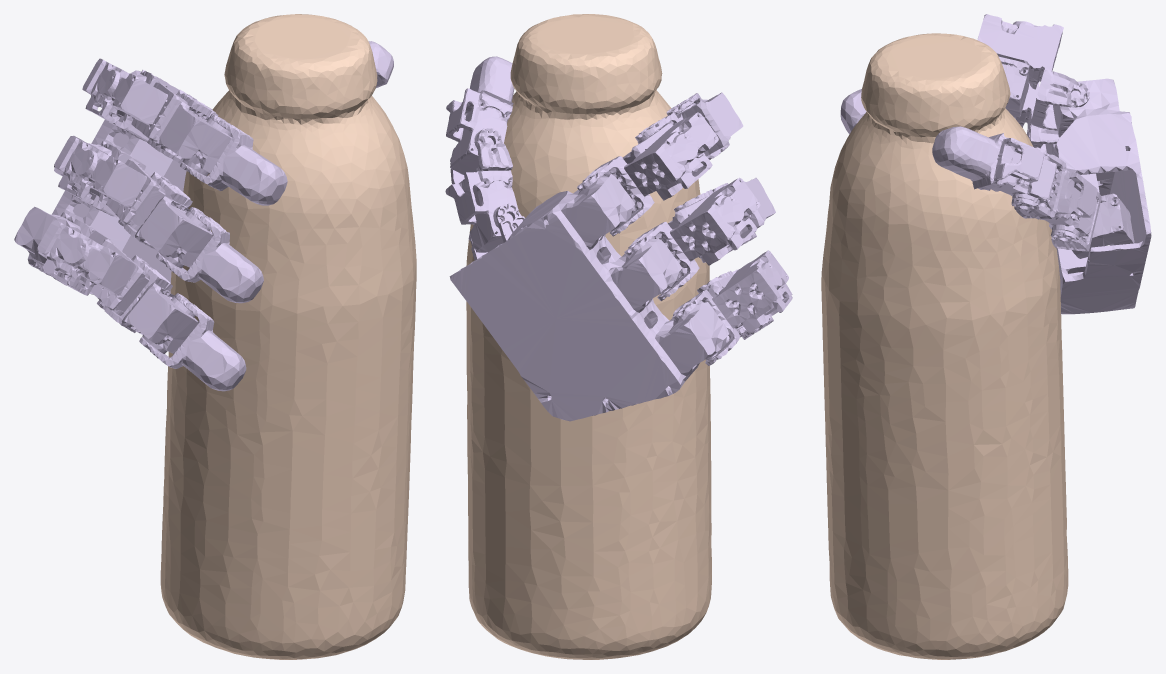
The picture shows the model from 3 angles, left to right: view 1: azimuth 30°, elevation 25°; view 2: azimuth 150°, elevation 25°; view 3: azimuth 270°, elevation 25°; orthographic projection. The views are drawn at different scales.
Visible parts, largest first — view 1: world, LEAP_hand; view 2: world, LEAP_hand; view 3: world, LEAP_hand.
Part boxes in pixels (x1,y1,x2,y2): world: (160,14,416,659); LEAP_hand: (14,41,393,391); world: (466,14,711,659); LEAP_hand: (445,56,792,421); world: (821,33,1068,659); LEAP_hand: (840,14,1151,314).
Size of the model in its own units: 0.2154 by 0.3605 by 0.1887.
